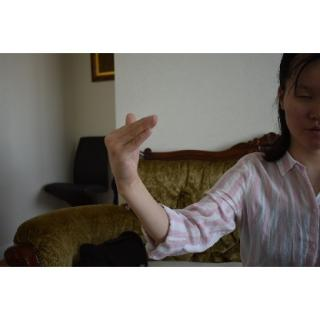KHAA: (99, 109, 169, 193)
